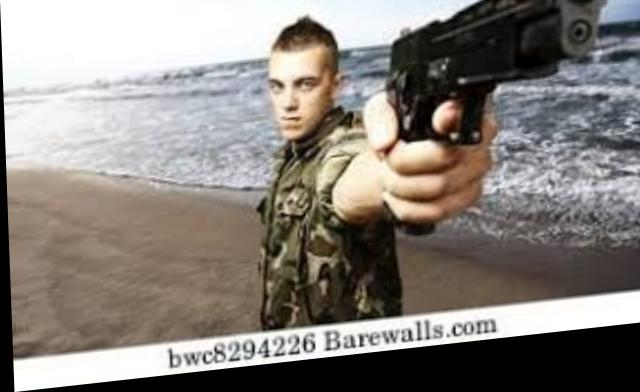other: (239, 16, 421, 333)
